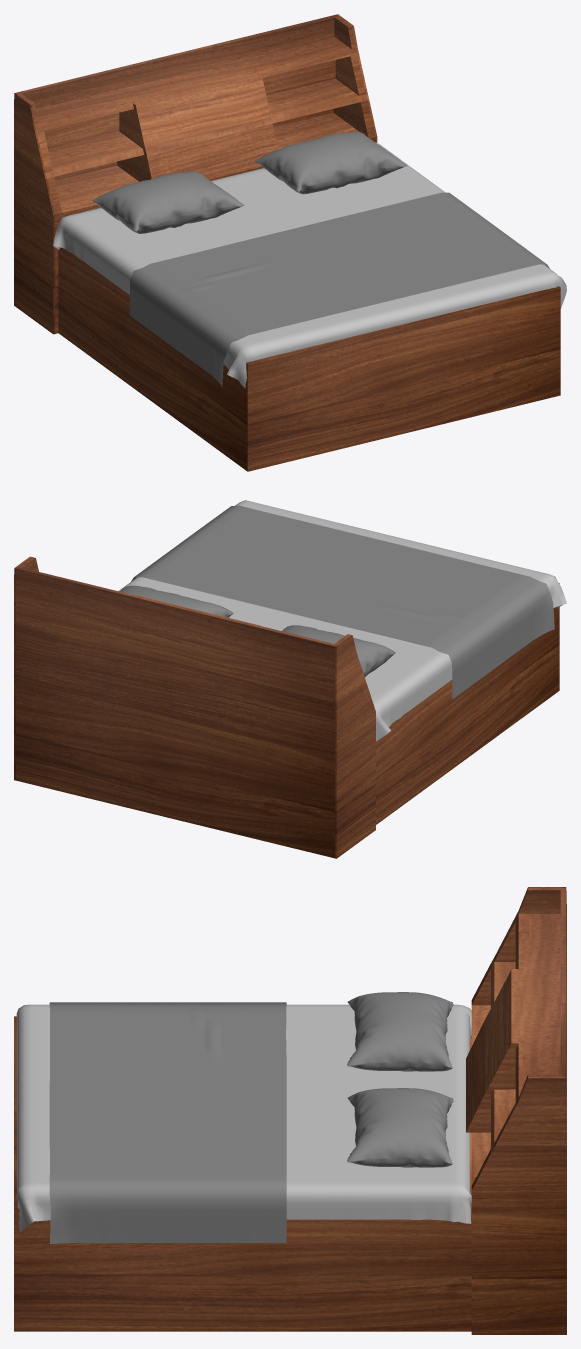
File: wooden_bed_free.glb
3 renders of one model, top to bottom at view 1: azimuth 30°, elevation 25°; view 2: azimuth 150°, elevation 25°; view 3: azimuth 270°, elevation 25°, orthographic. The views are drawn at different scales.
Parts seen in each view (by area): view 1: bed, Plane001, bed sheet, Box003_03 - Default_0, Box002_03 - Default_0; view 2: bed, Plane001, bed sheet, Box002_03 - Default_0, Box003_03 - Default_0; view 3: bed, Plane001, bed sheet, Box002_03 - Default_0, Box003_03 - Default_0.
Part boxes in pixels (left/top/right/bottom): bed: left=14, top=14, right=560, bottom=471; Plane001: left=129, top=192, right=549, bottom=387; bed sheet: left=53, top=142, right=566, bottom=387; Box003_03 - Default_0: left=255, top=131, right=407, bottom=194; Box002_03 - Default_0: left=92, top=171, right=244, bottom=233; bed: left=14, top=556, right=559, bottom=858; Plane001: left=131, top=505, right=554, bottom=699; bed sheet: left=118, top=500, right=566, bottom=741; Box002_03 - Default_0: left=282, top=625, right=395, bottom=676; Box003_03 - Default_0: left=120, top=585, right=233, bottom=617; bed: left=14, top=887, right=566, bottom=1334; Plane001: left=49, top=1002, right=286, bottom=1243; bed sheet: left=16, top=1004, right=471, bottom=1232; Box002_03 - Default_0: left=347, top=992, right=453, bottom=1071; Box003_03 - Default_0: left=347, top=1088, right=453, bottom=1167.
Bounding box in the file's own units: 1.84 × 1.09 × 2.13.
Materials: 3 (3 with a texture image).
